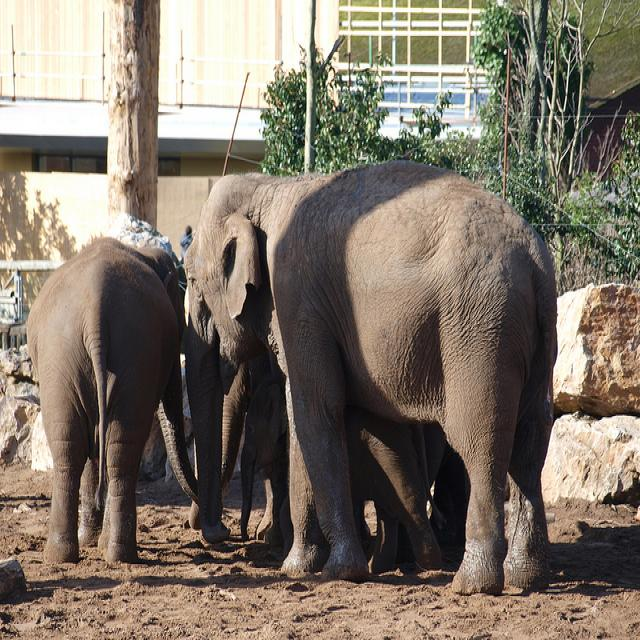Elephant: (182, 158, 558, 594), (25, 235, 200, 564)
person: (179, 224, 193, 261)
